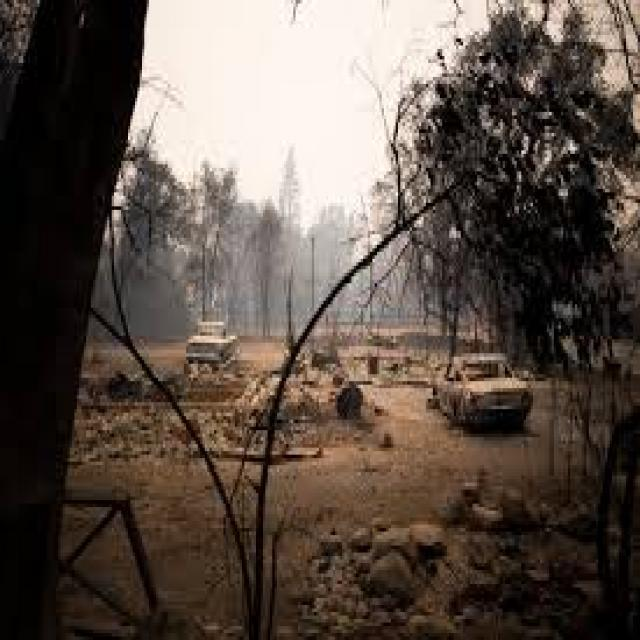Forest Fire: (194, 279, 571, 590)
